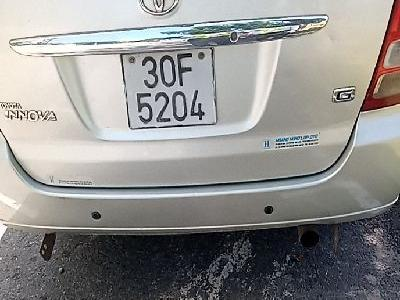lisence: (118, 46, 222, 131)
